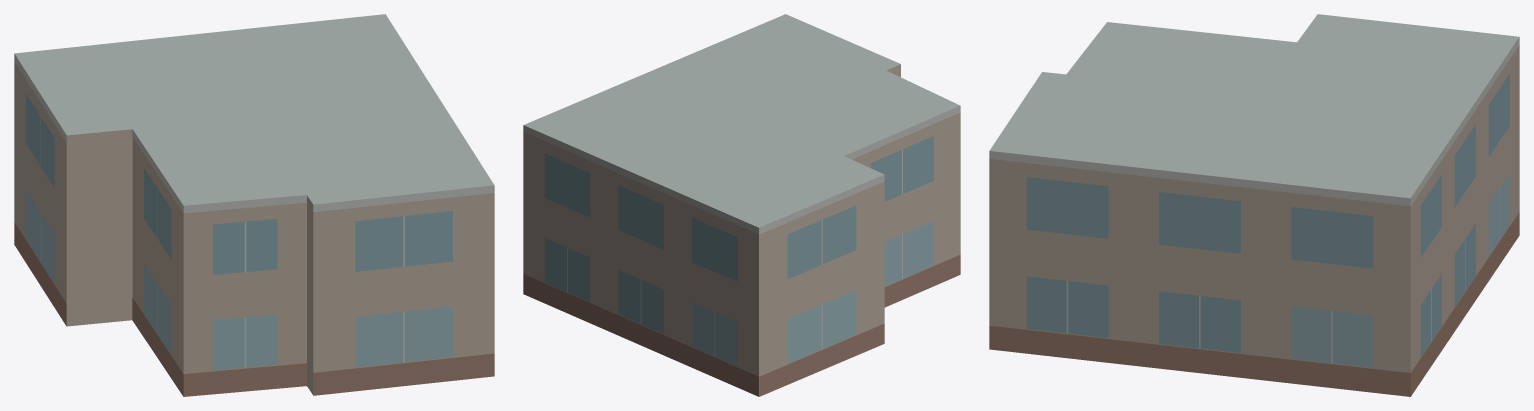
File: survey-upis-32699205.glb
3 renders of one model, left to right at view 1: azimuth 30°, elevation 25°; view 2: azimuth 150°, elevation 25°; view 3: azimuth 270°, elevation 25°, orthographic. The views are drawn at different scales.
Visible parts, largest first — view 1: survey-upis-32699205.tmp; view 2: survey-upis-32699205.tmp; view 3: survey-upis-32699205.tmp.
Boxes of the visible parts, x1,y1,x2,y2 form: survey-upis-32699205.tmp: (14,14,494,396); survey-upis-32699205.tmp: (523,14,960,396); survey-upis-32699205.tmp: (989,14,1519,396).
Bounding box in the file's own units: 12.16 × 6.1 × 14.78.
